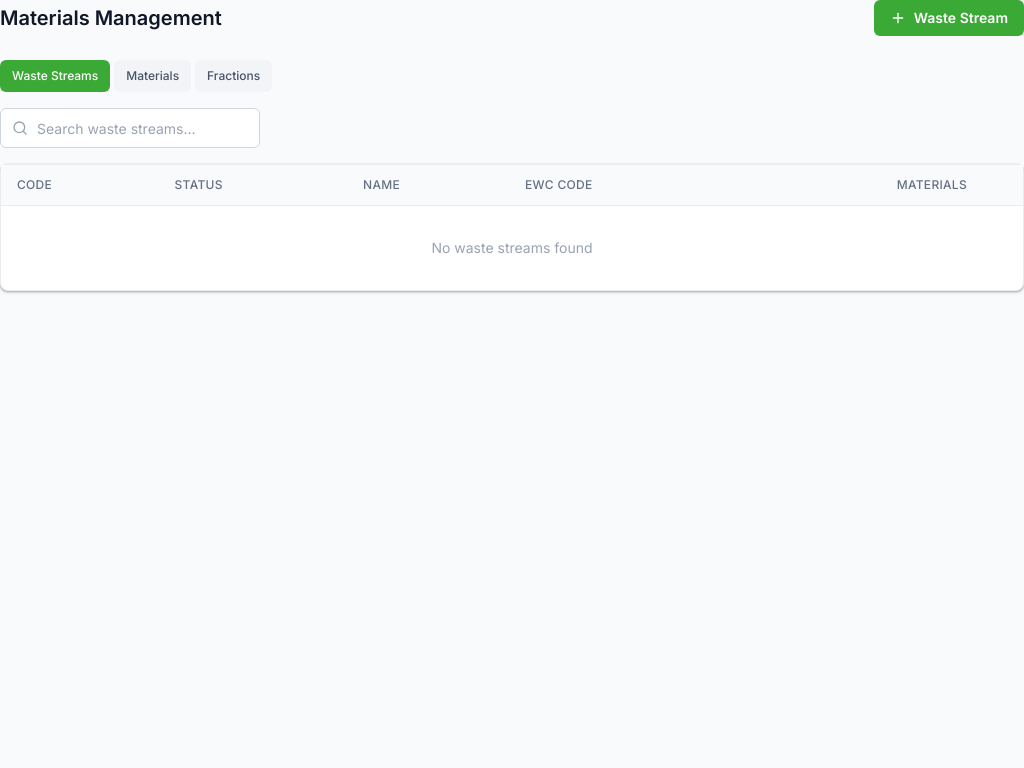
MaterialsManagementPage › opens the waste stream create modal on button click
Note: On Waste Streams tab, the add button says "Waste Stream"
Click the button "Waste Stream": {"x": 949, "y": 18} [874,0,1023,36]
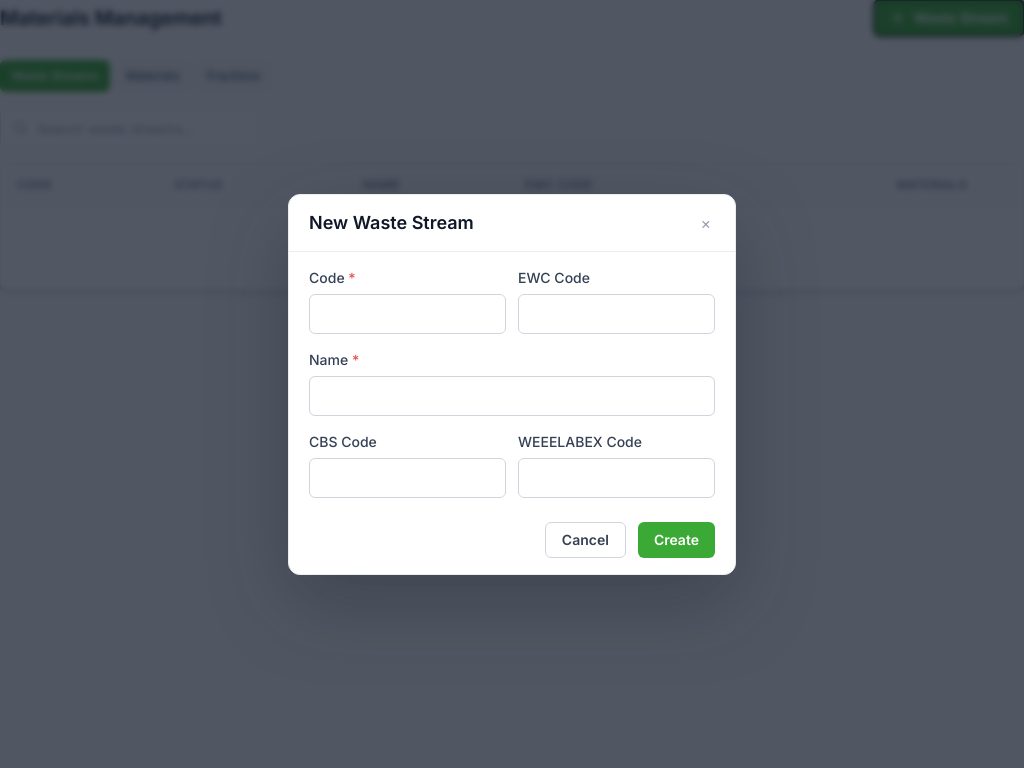
expect the heading "New Waste Stream" is shown: met, box [309,210,474,234]
